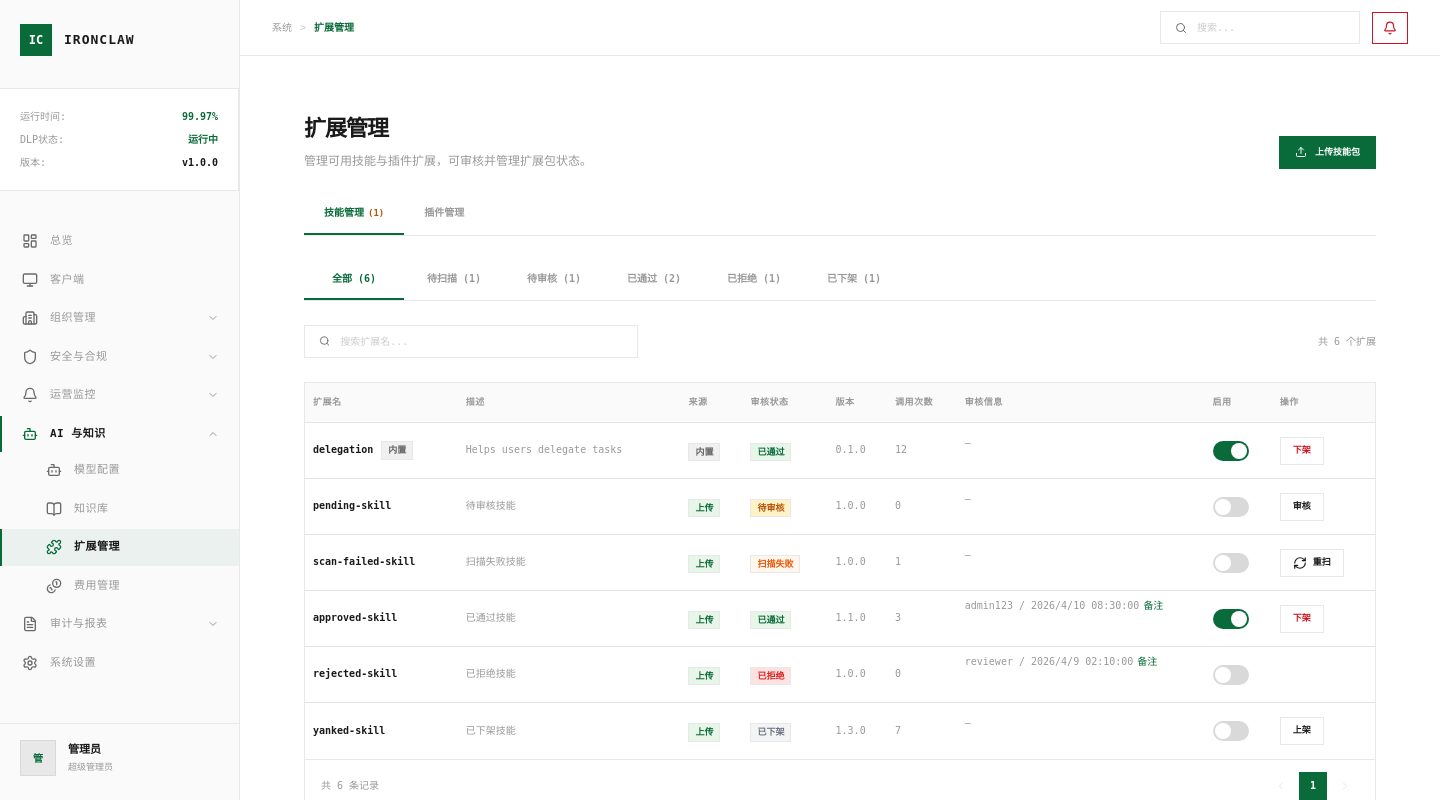
扩展管理 › 审核与扫描结果 › 插件审核弹窗应加载插件扫描结果
Step 1. Click the button "插件管理" → click(444, 214), box [404,193,484,235]
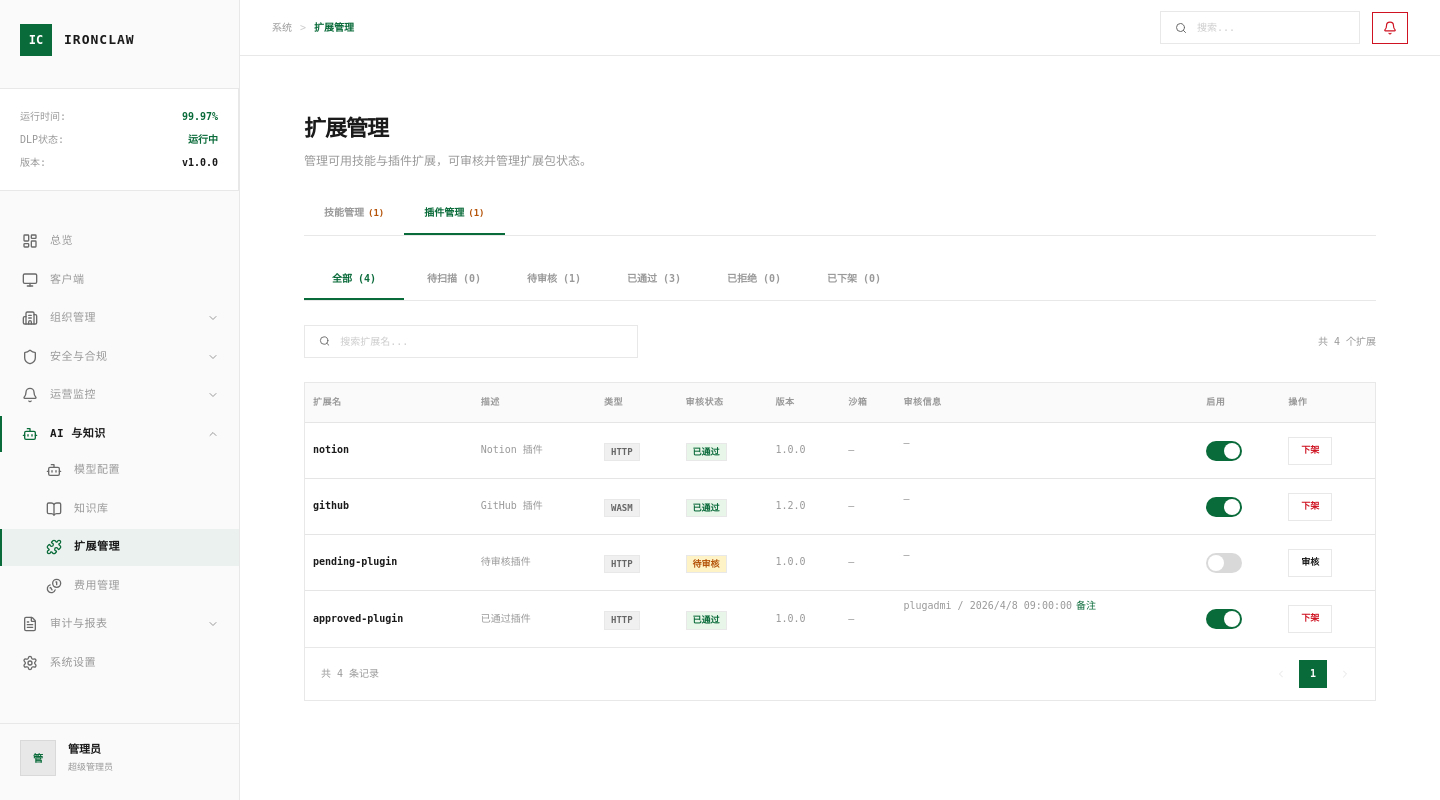
Step 2. Click the button "审核" → click(1310, 563), box [1288,549,1332,577]
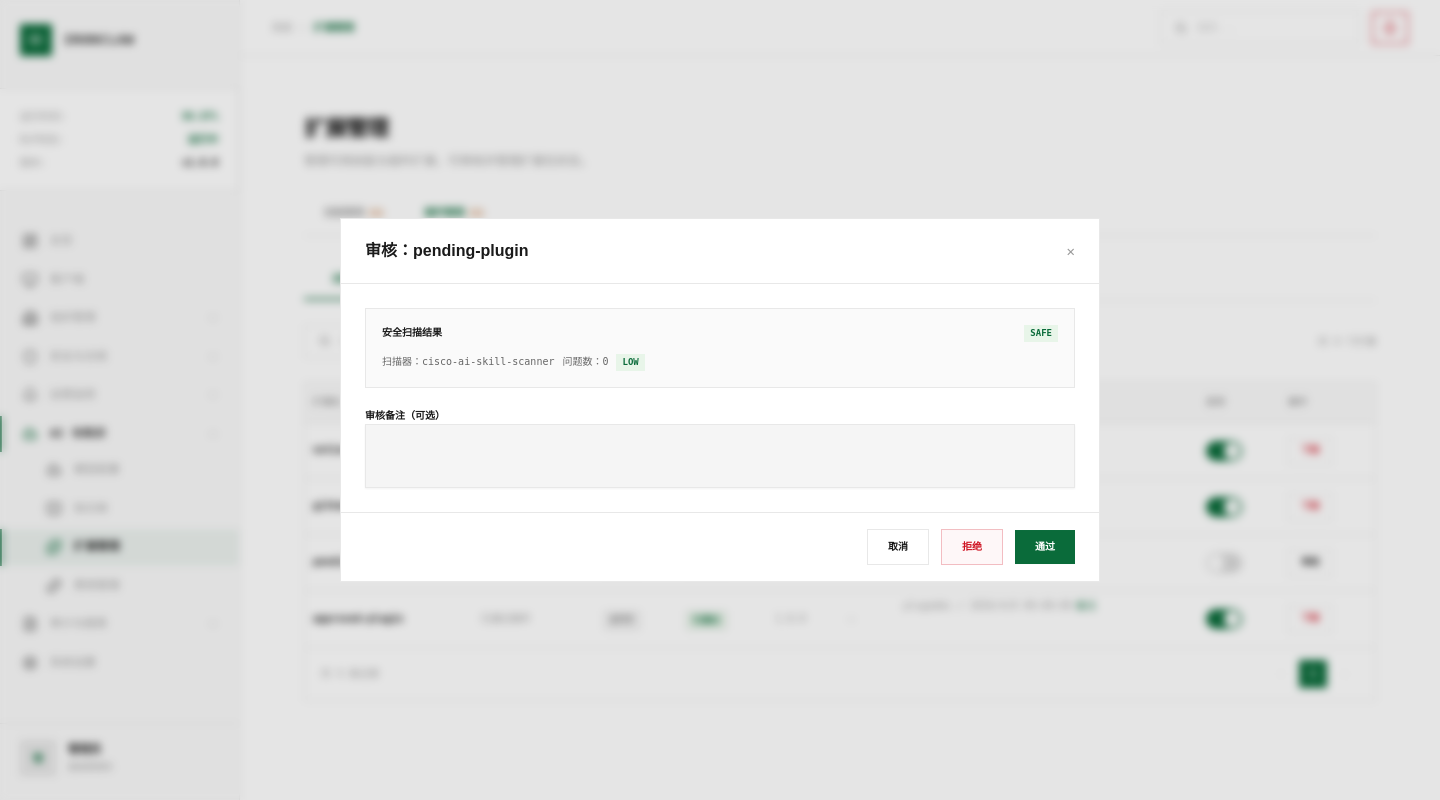
Now the heading "审核：pending-plugin" is shown, box [365,239,528,263]
Now the heading "安全扫描结果" is shown, box [382,326,442,341]
Now the text "SAFE" is shown, box [1024,325,1058,342]
